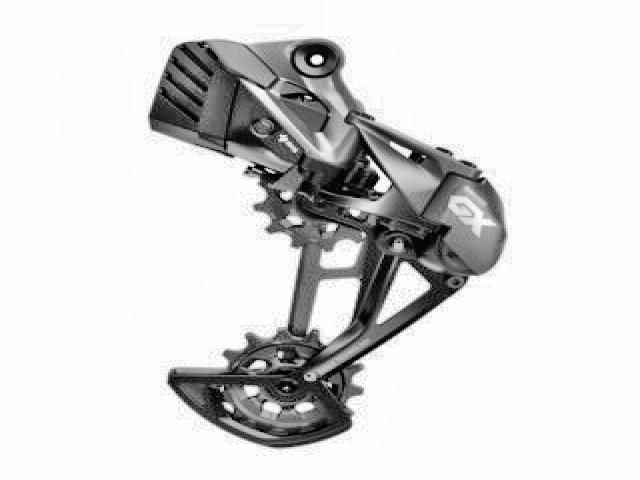rear_derailleur: (147, 35, 511, 453)
